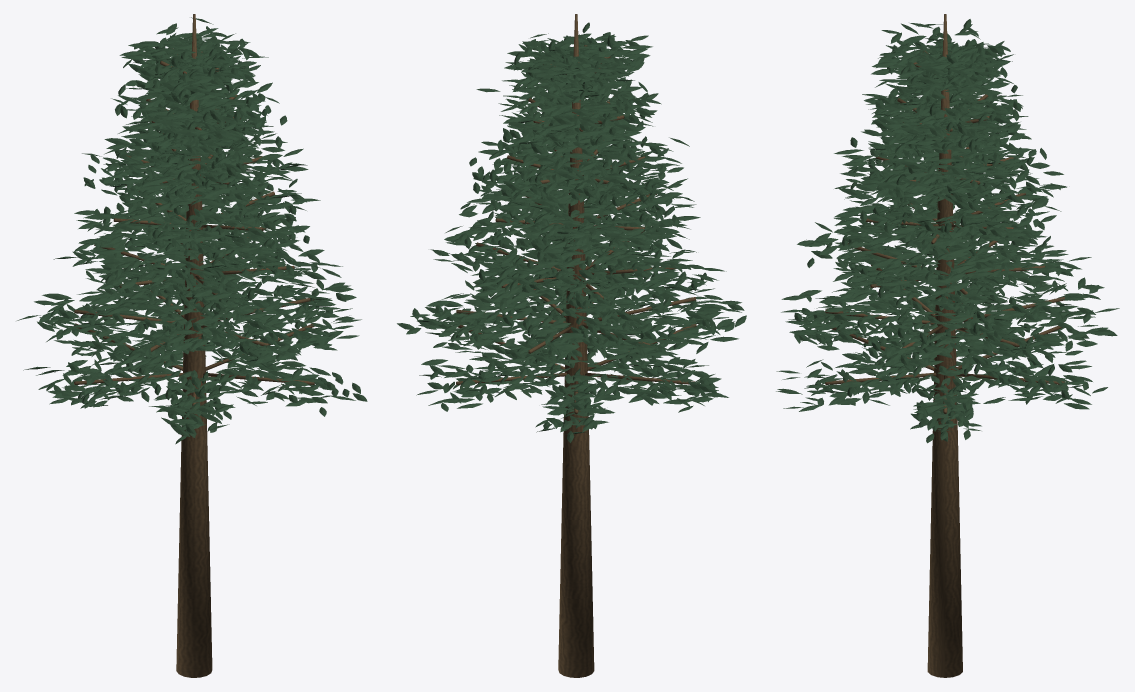
Rendered from pine_tree.glb.
3 views of the same model, side by side, from view 1: azimuth 30°, elevation 25°; view 2: azimuth 150°, elevation 25°; view 3: azimuth 270°, elevation 25° (orthographic).
Visible parts, largest first — view 1: Pine; view 2: Pine; view 3: Pine.
Part boxes in pixels (box(x1,y1,x2,y2)): Pine: box(17, 14, 367, 677); Pine: box(397, 14, 746, 677); Pine: box(776, 14, 1119, 677).
Bounding box in the file's own units: 4.38 × 8.4 × 4.01.
2 materials, 2 textured.
